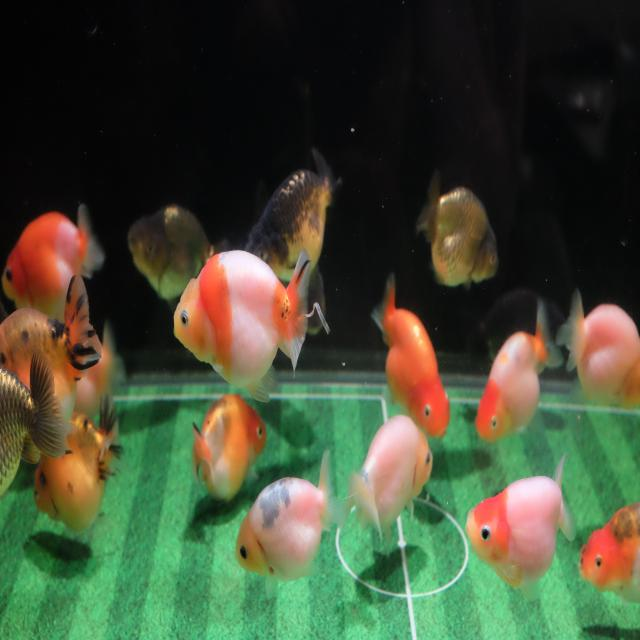Goldfish: (172, 245, 314, 407), (466, 451, 576, 605), (235, 450, 346, 601), (0, 272, 102, 433), (240, 144, 346, 286), (32, 389, 127, 537), (474, 297, 566, 449), (370, 270, 451, 442), (348, 414, 433, 562), (1, 204, 106, 316), (0, 346, 70, 511), (124, 202, 229, 310), (413, 165, 501, 292), (557, 286, 640, 412), (191, 393, 267, 510), (578, 501, 640, 608)
